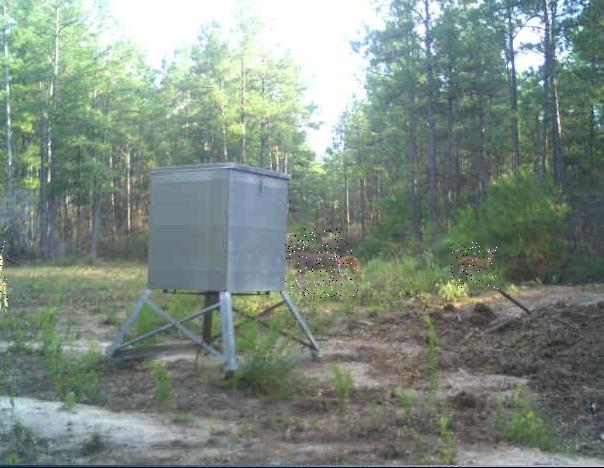Deer: (285, 229, 342, 299), (448, 242, 498, 290), (343, 242, 360, 299), (0, 241, 8, 317)
